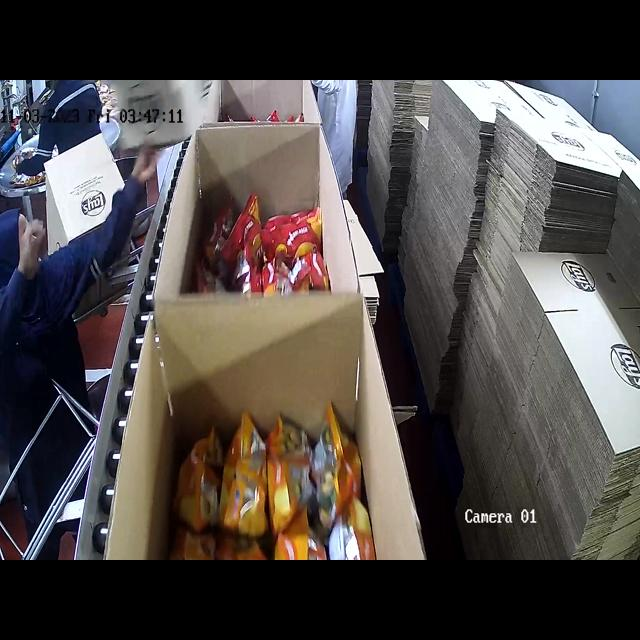cheese: (197, 413, 377, 560)
masala: (204, 179, 336, 293)
